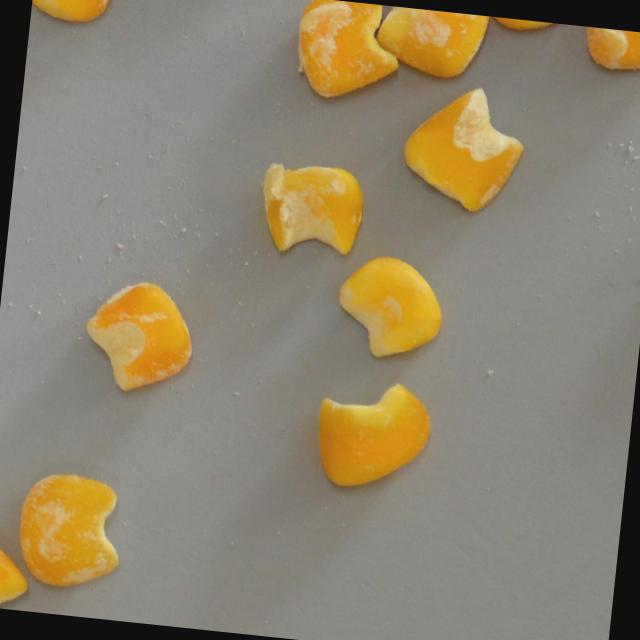no_canjicado: (309, 373, 435, 494), (332, 250, 446, 363), (476, 15, 579, 40), (30, 0, 115, 25), (0, 533, 24, 610)
pelicula: (397, 79, 531, 216), (10, 467, 128, 594), (77, 274, 198, 396), (289, 0, 405, 107), (255, 155, 367, 261), (371, 4, 490, 82), (579, 26, 640, 74)
